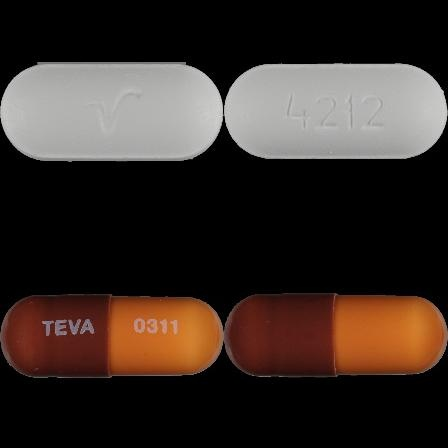68788-9076: (0, 0, 224, 224)
